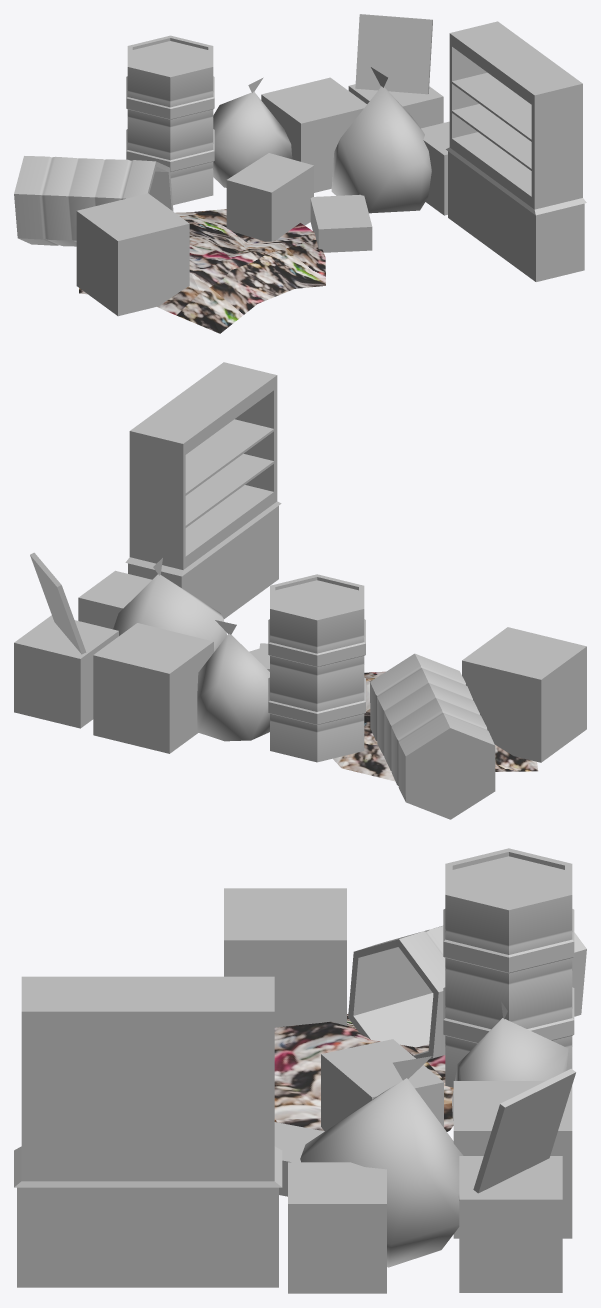
The model's file is Asset Main Building_V2.fbx_Gudang.fbx.
The picture shows the model from 3 angles, top to bottom: view 1: azimuth 30°, elevation 25°; view 2: azimuth 150°, elevation 25°; view 3: azimuth 270°, elevation 25°; orthographic projection. The views are drawn at different scales.
Visible parts, largest first — view 1: Fitment_02.002, Cylinder002, sampah.002, CardboardBox_4.001, Cylinder009, Garbage_bags.001, Cube.009, CardboardBox_2.001, Painting_04.001, Garbage_bags.002, Cube.008, CardboardBox_3.001 (+1 smaller); view 2: Fitment_02.002, Cylinder002, Cylinder009, CardboardBox_4.001, CardboardBox_2.001, CardboardBox_1.001, Garbage_bags.002, Garbage_bags.001, sampah.002, CardboardBox_3.001, Painting_04.001; view 3: Fitment_02.002, Cylinder002, Garbage_bags.001, CardboardBox_4.001, CardboardBox_3.001, CardboardBox_1.001, Cylinder009, sampah.002, Painting_04.001, Cube.009, CardboardBox_2.001, Garbage_bags.002 (+1 smaller).
Boxes of the visible parts, bbox=[...] form: Fitment_02.002: bbox=[446, 21, 586, 281]; Cylinder002: bbox=[126, 35, 214, 205]; sampah.002: bbox=[79, 209, 325, 333]; CardboardBox_4.001: bbox=[76, 193, 189, 316]; Cylinder009: bbox=[14, 156, 173, 246]; Garbage_bags.001: bbox=[331, 67, 431, 213]; Cube.009: bbox=[226, 153, 313, 241]; CardboardBox_2.001: bbox=[261, 77, 366, 192]; Painting_04.001: bbox=[355, 14, 432, 94]; Garbage_bags.002: bbox=[213, 77, 292, 187]; Cube.008: bbox=[310, 194, 372, 252]; CardboardBox_3.001: bbox=[421, 121, 449, 215]; Fitment_02.002: bbox=[125, 362, 281, 619]; Cylinder002: bbox=[268, 574, 365, 762]; Cylinder009: bbox=[370, 653, 495, 819]; CardboardBox_4.001: bbox=[462, 627, 586, 762]; CardboardBox_2.001: bbox=[93, 623, 213, 753]; CardboardBox_1.001: bbox=[14, 615, 118, 728]; Garbage_bags.002: bbox=[197, 620, 269, 741]; Garbage_bags.001: bbox=[113, 558, 226, 651]; sampah.002: bbox=[333, 671, 538, 781]; CardboardBox_3.001: bbox=[78, 570, 151, 629]; Painting_04.001: bbox=[30, 552, 86, 654]; Fitment_02.002: bbox=[14, 976, 282, 1287]; Cylinder002: bbox=[443, 848, 574, 1087]; Garbage_bags.001: bbox=[300, 1056, 463, 1267]; CardboardBox_4.001: bbox=[224, 888, 346, 1027]; CardboardBox_3.001: bbox=[288, 1162, 386, 1293]; CardboardBox_1.001: bbox=[459, 1156, 562, 1292]; Cylinder009: bbox=[348, 926, 586, 1059]; sampah.002: bbox=[274, 1014, 453, 1131]; Painting_04.001: bbox=[473, 1068, 575, 1193]; Cube.009: bbox=[321, 1039, 443, 1130]; CardboardBox_2.001: bbox=[453, 1081, 572, 1238]; Garbage_bags.002: bbox=[452, 1001, 568, 1120].
Bounding box in the file's own units: 3273 × 1497 × 2603.
